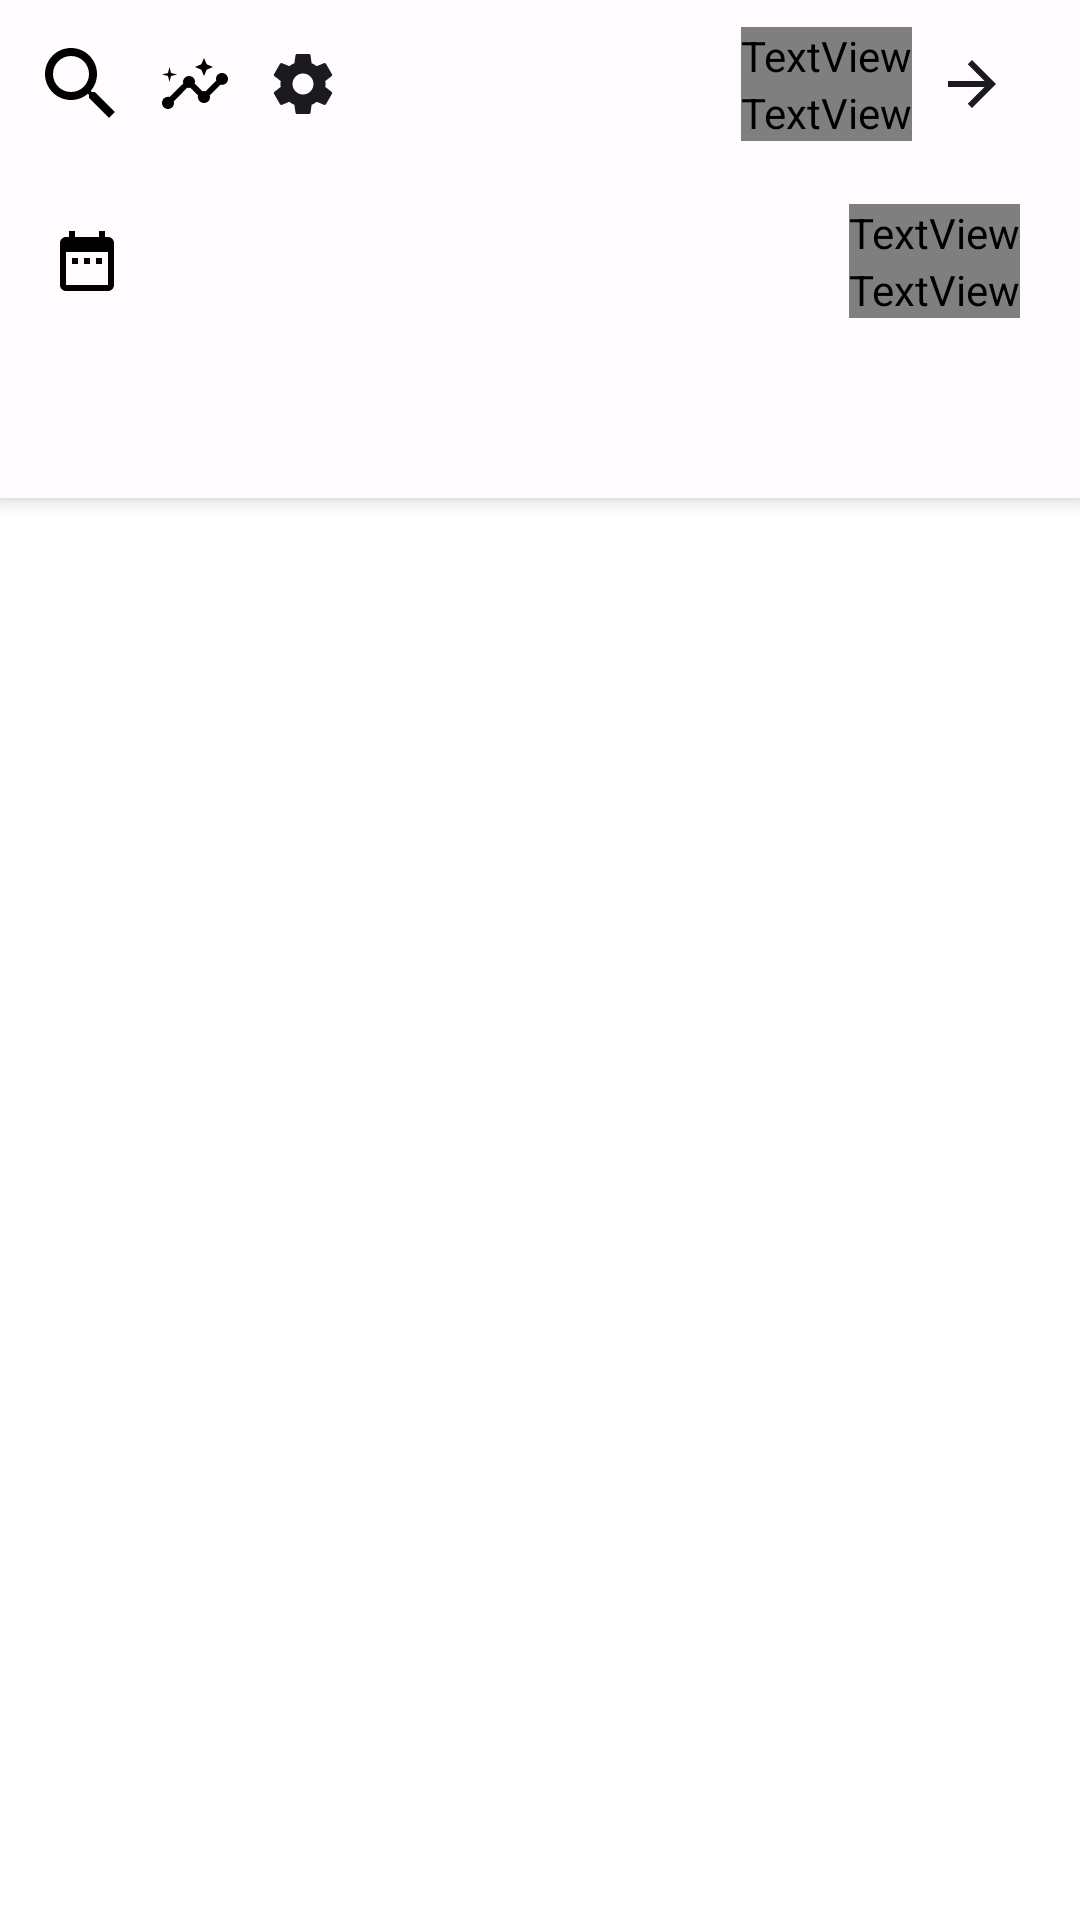

Icon click points for this 1080×1920 phone screenshot, format point (x, y):
calendar: point (87, 261)
search: point (80, 83)
setting: point (302, 84)
